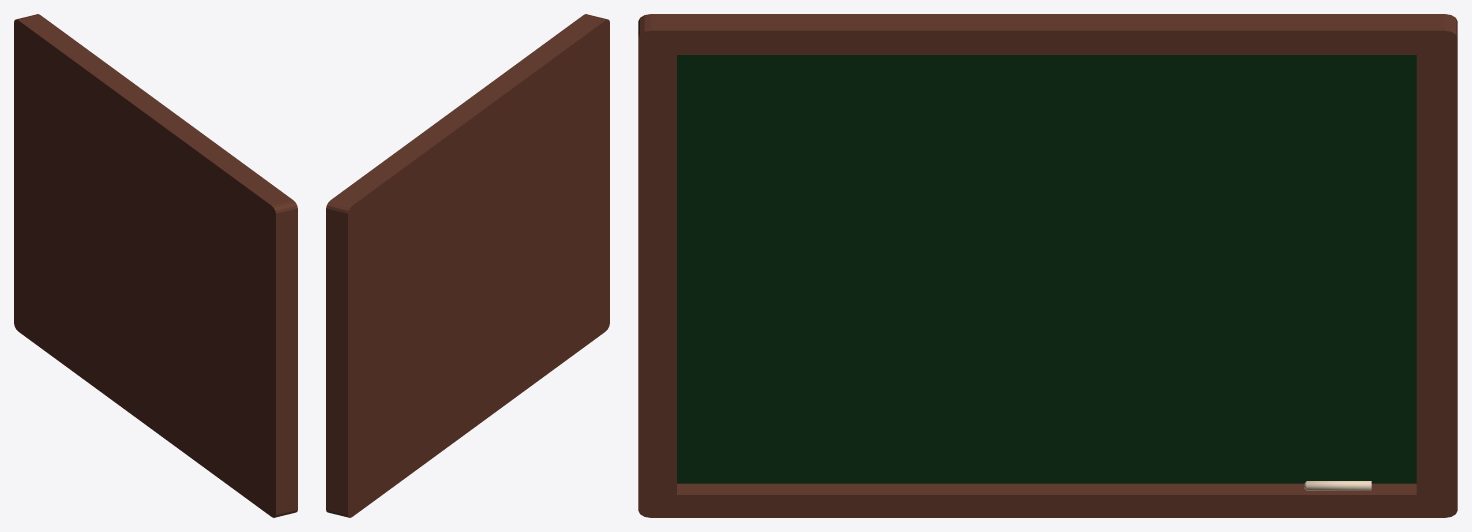
Rendered from blackboard.fbx.
3 views of the same model, side by side, from view 1: azimuth 30°, elevation 25°; view 2: azimuth 150°, elevation 25°; view 3: azimuth 270°, elevation 25° (orthographic). The views are drawn at different scales.
Visible parts, largest first — view 1: Plane; view 2: Plane; view 3: Plane.
Boxes of the visible parts, x1,y1,x2,y2 form: Plane: [14, 14, 297, 517]; Plane: [326, 14, 609, 517]; Plane: [638, 14, 1457, 517].
Bounding box in the file's own units: 14.79 × 200 × 305.
